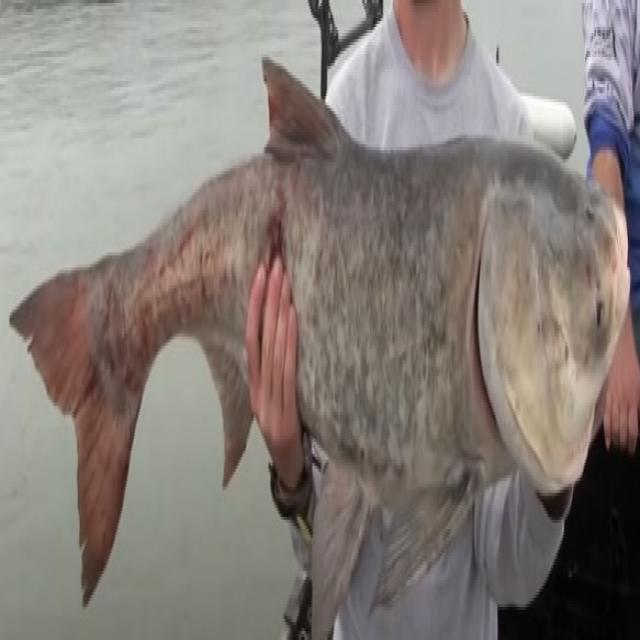Big-Head-Carp: (10, 27, 635, 593)
